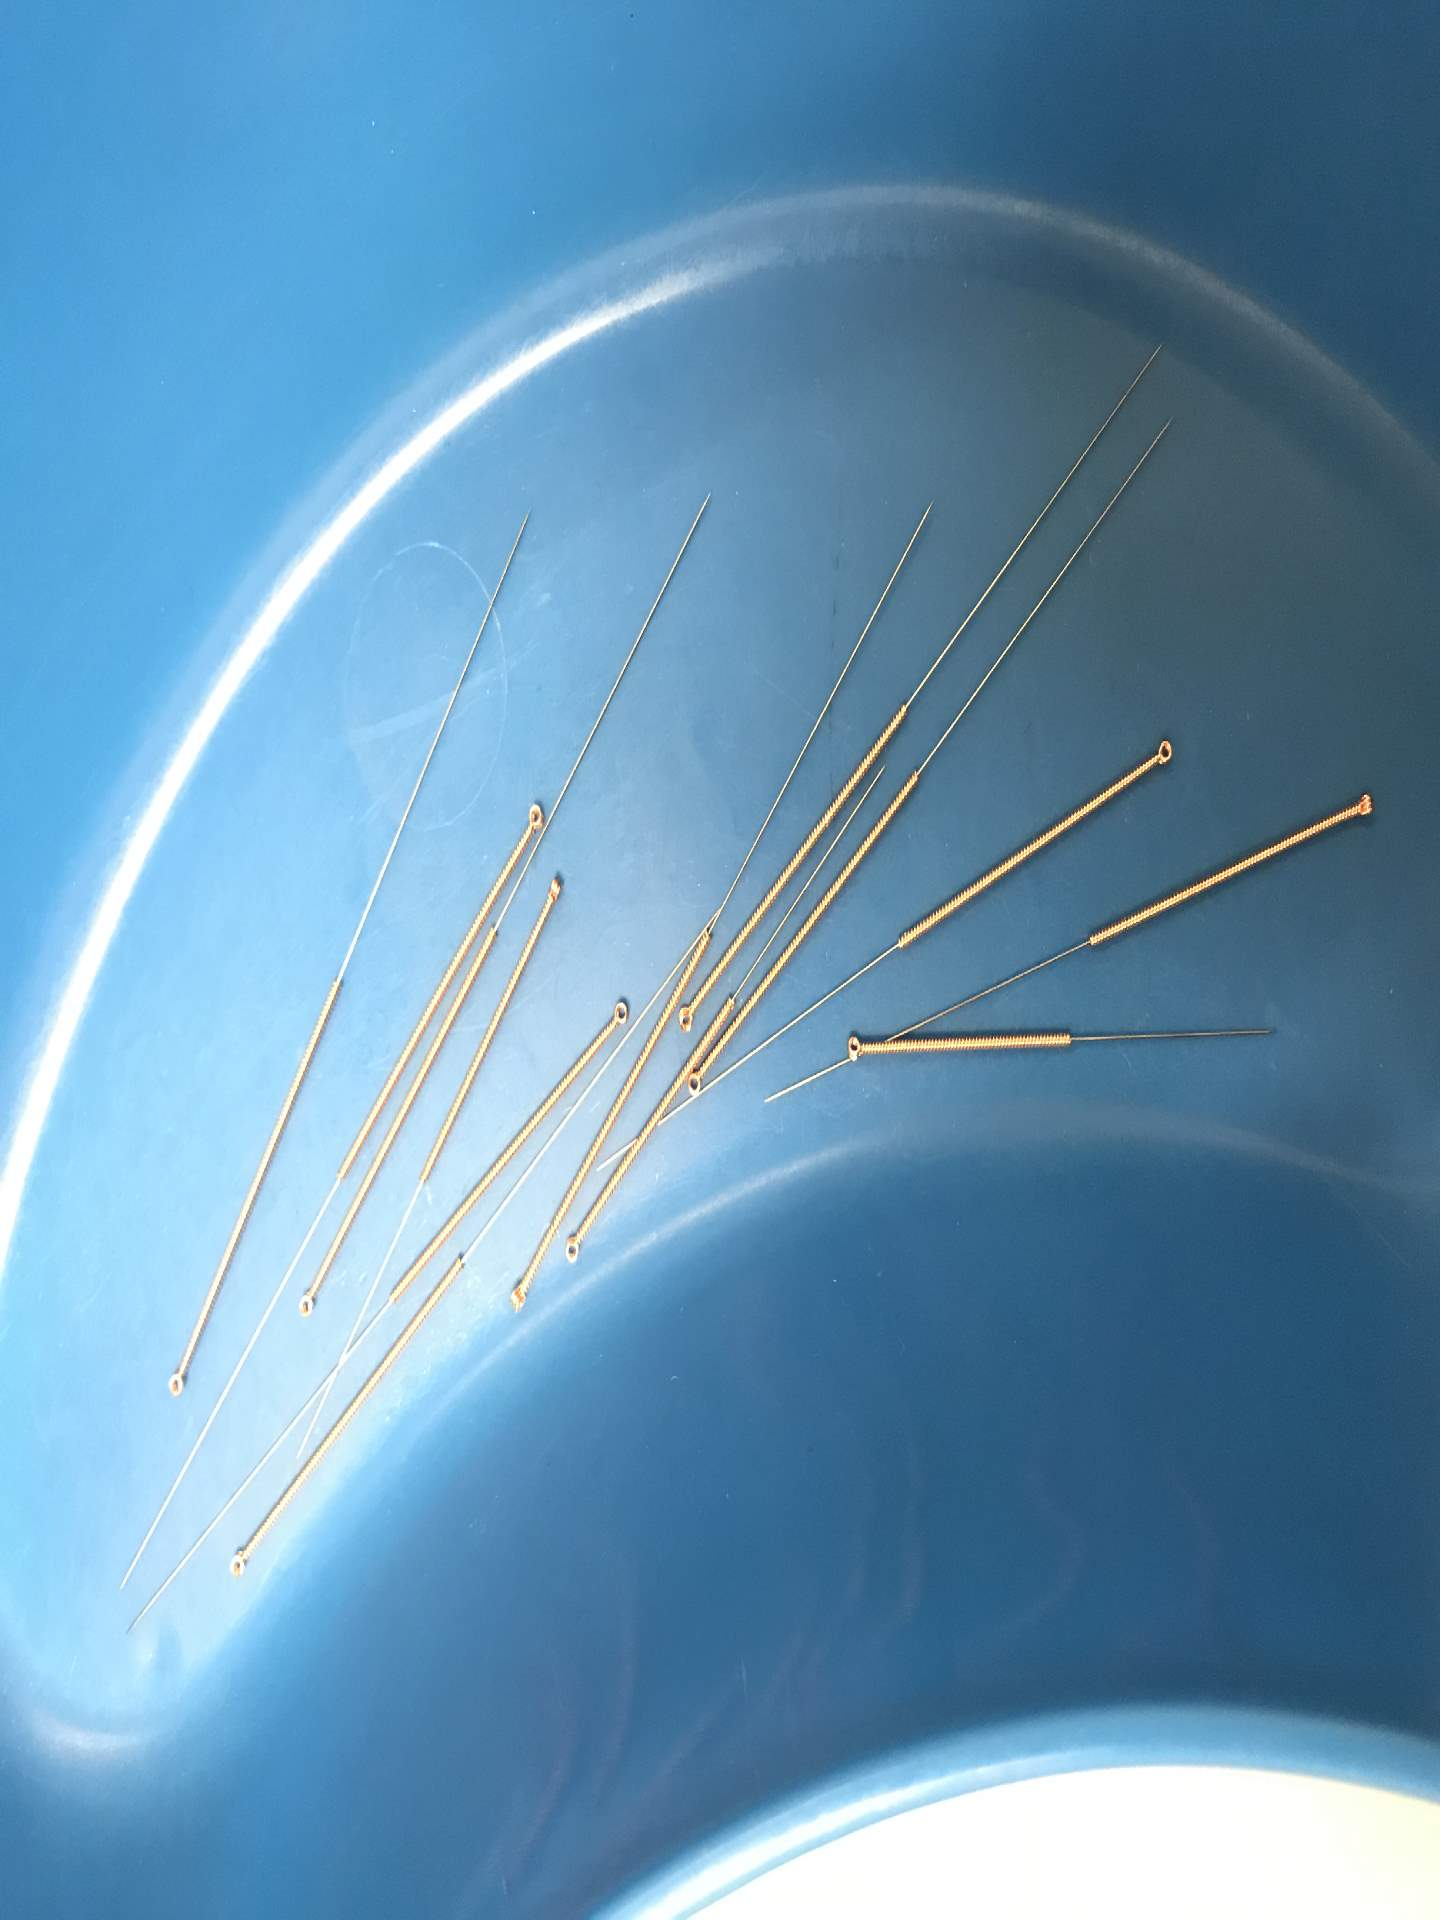needle: (1137, 729, 1184, 776), (1342, 782, 1384, 828), (499, 1271, 535, 1321), (221, 1541, 257, 1587), (836, 1027, 874, 1070), (157, 1361, 194, 1404), (287, 1281, 324, 1324), (557, 1226, 591, 1270), (604, 989, 632, 1033), (520, 791, 548, 835), (542, 868, 570, 909), (675, 998, 702, 1036), (684, 1067, 709, 1102)
